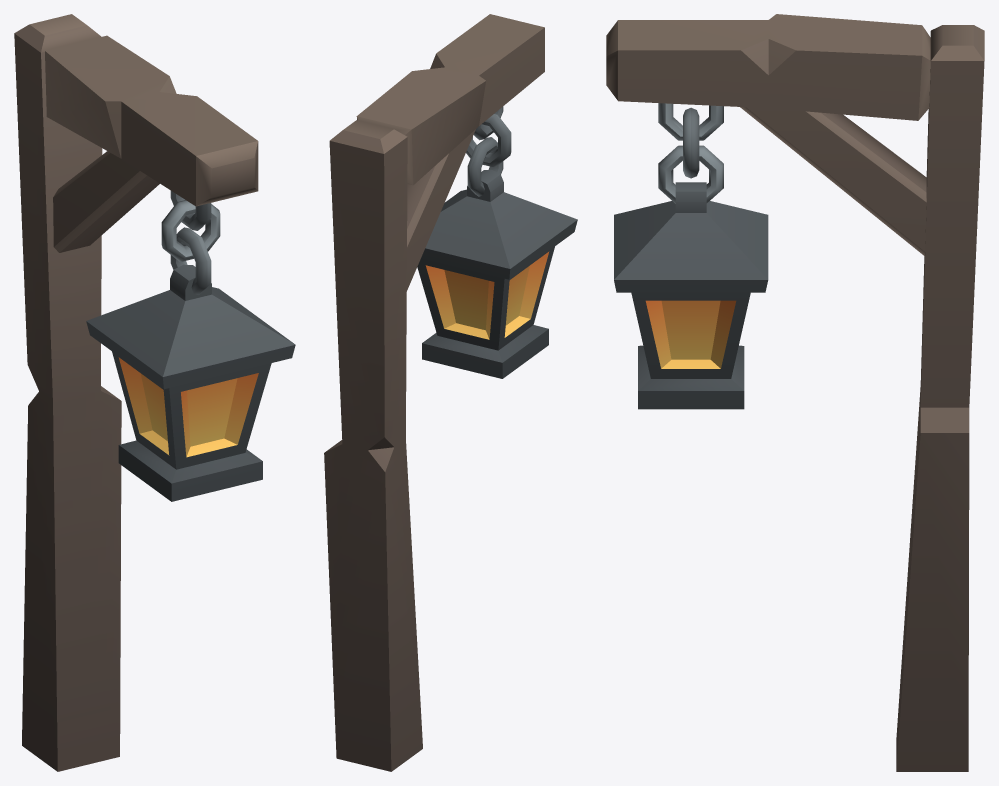
File: PostLantern.glb
3 views of the same model, side by side, from view 1: azimuth 30°, elevation 25°; view 2: azimuth 150°, elevation 25°; view 3: azimuth 270°, elevation 25° (orthographic). The views are drawn at different scales.
Visible parts, largest first — view 1: post_lantern, post_lantern_lantern; view 2: post_lantern, post_lantern_lantern; view 3: post_lantern, post_lantern_lantern.
Part boxes in pixels (x1,y1,x2,y2): post_lantern: (14, 14, 258, 771); post_lantern_lantern: (86, 191, 295, 501); post_lantern: (324, 14, 544, 771); post_lantern_lantern: (417, 106, 577, 378); post_lantern: (606, 14, 984, 771); post_lantern_lantern: (614, 103, 768, 409).
Size of the model in its own units: 0.6399 by 3.3 by 1.57.
1 material, 1 textured.
